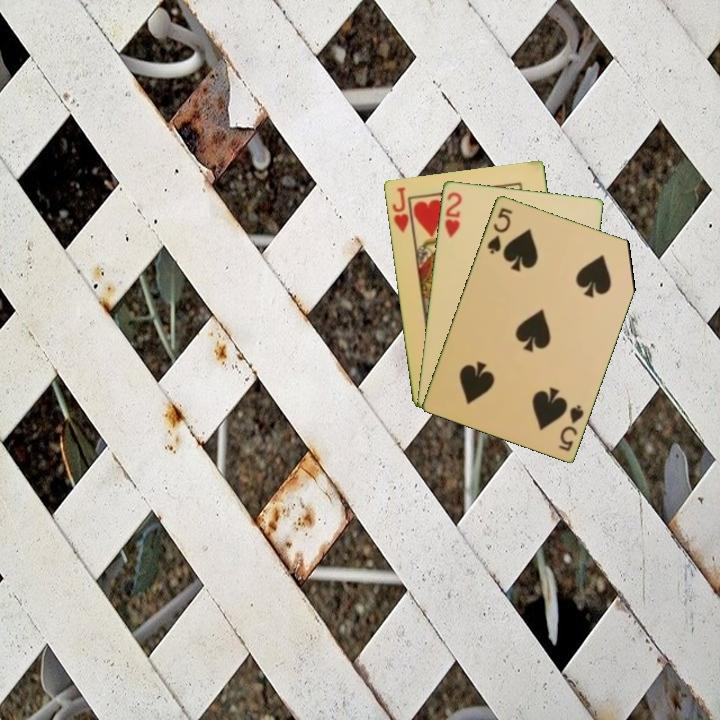2h: (441, 188, 464, 240)
5s: (554, 401, 587, 454), (483, 204, 515, 257)
Jh: (388, 183, 411, 236)
